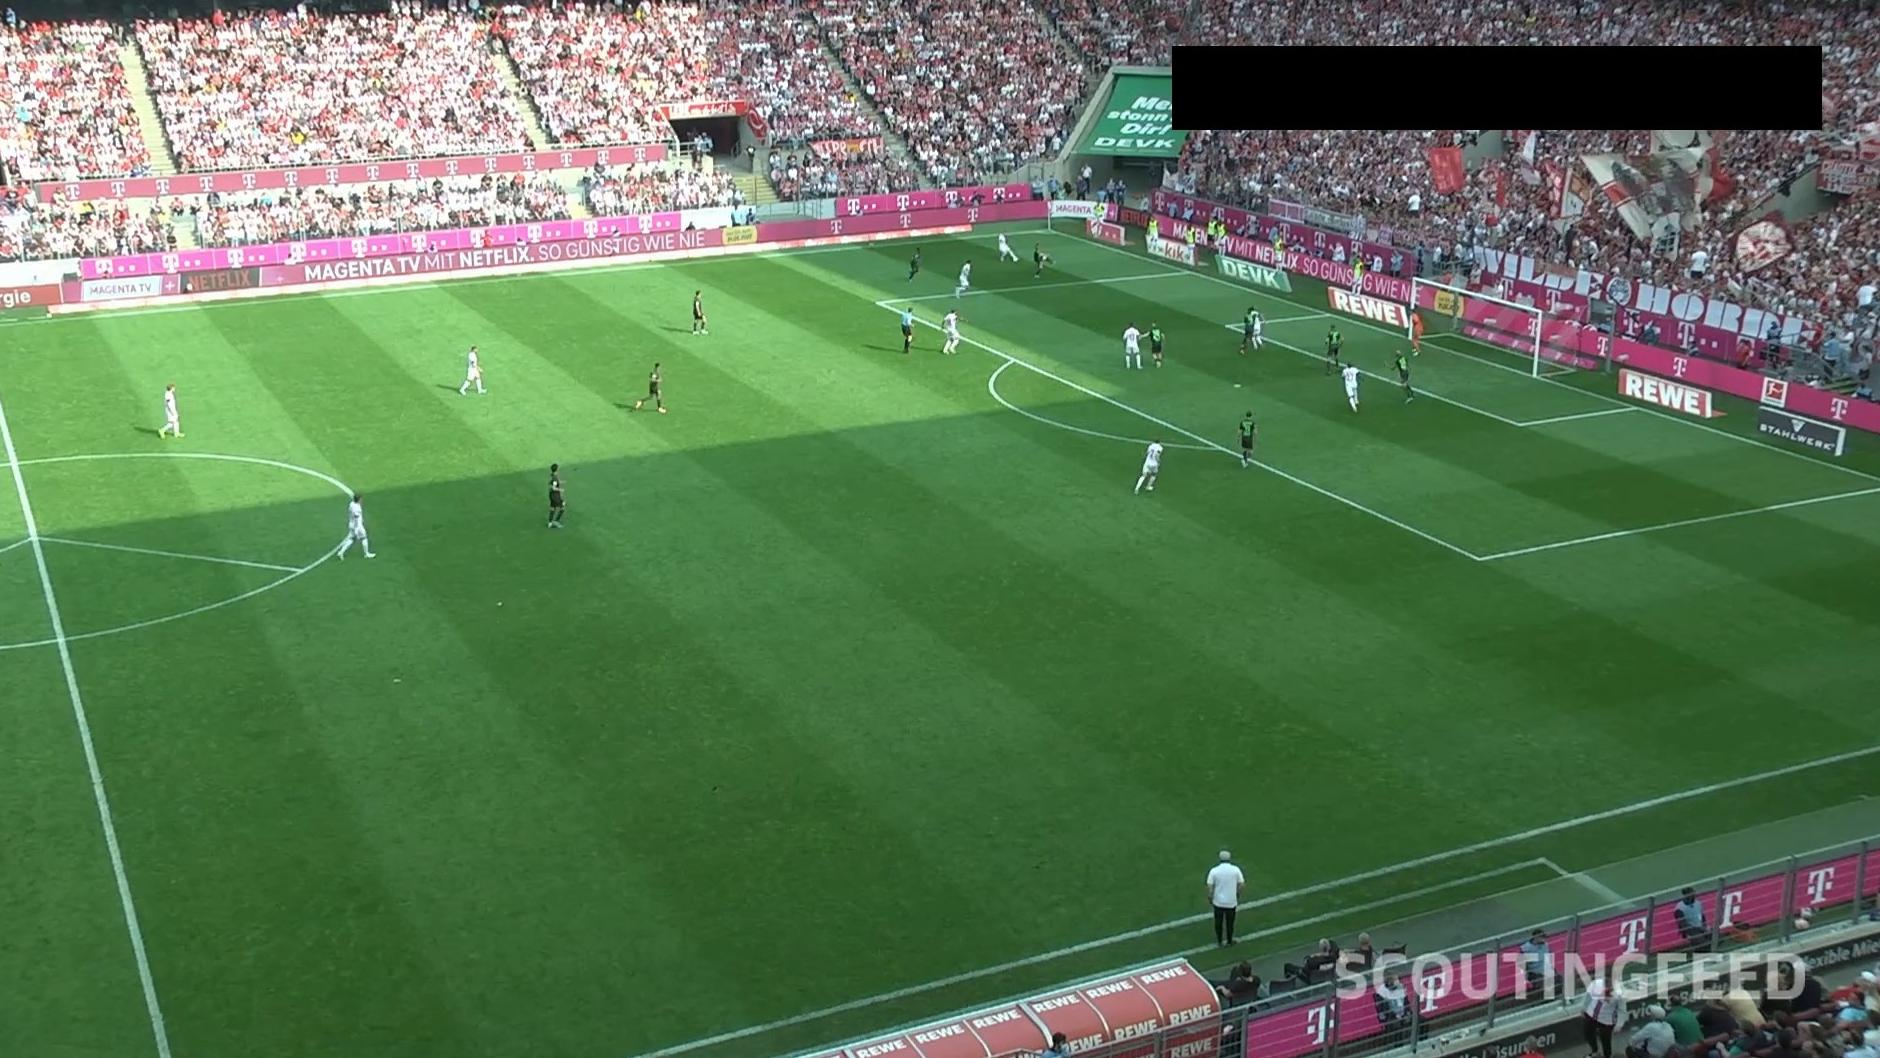ball: (1012, 254, 1020, 262)
